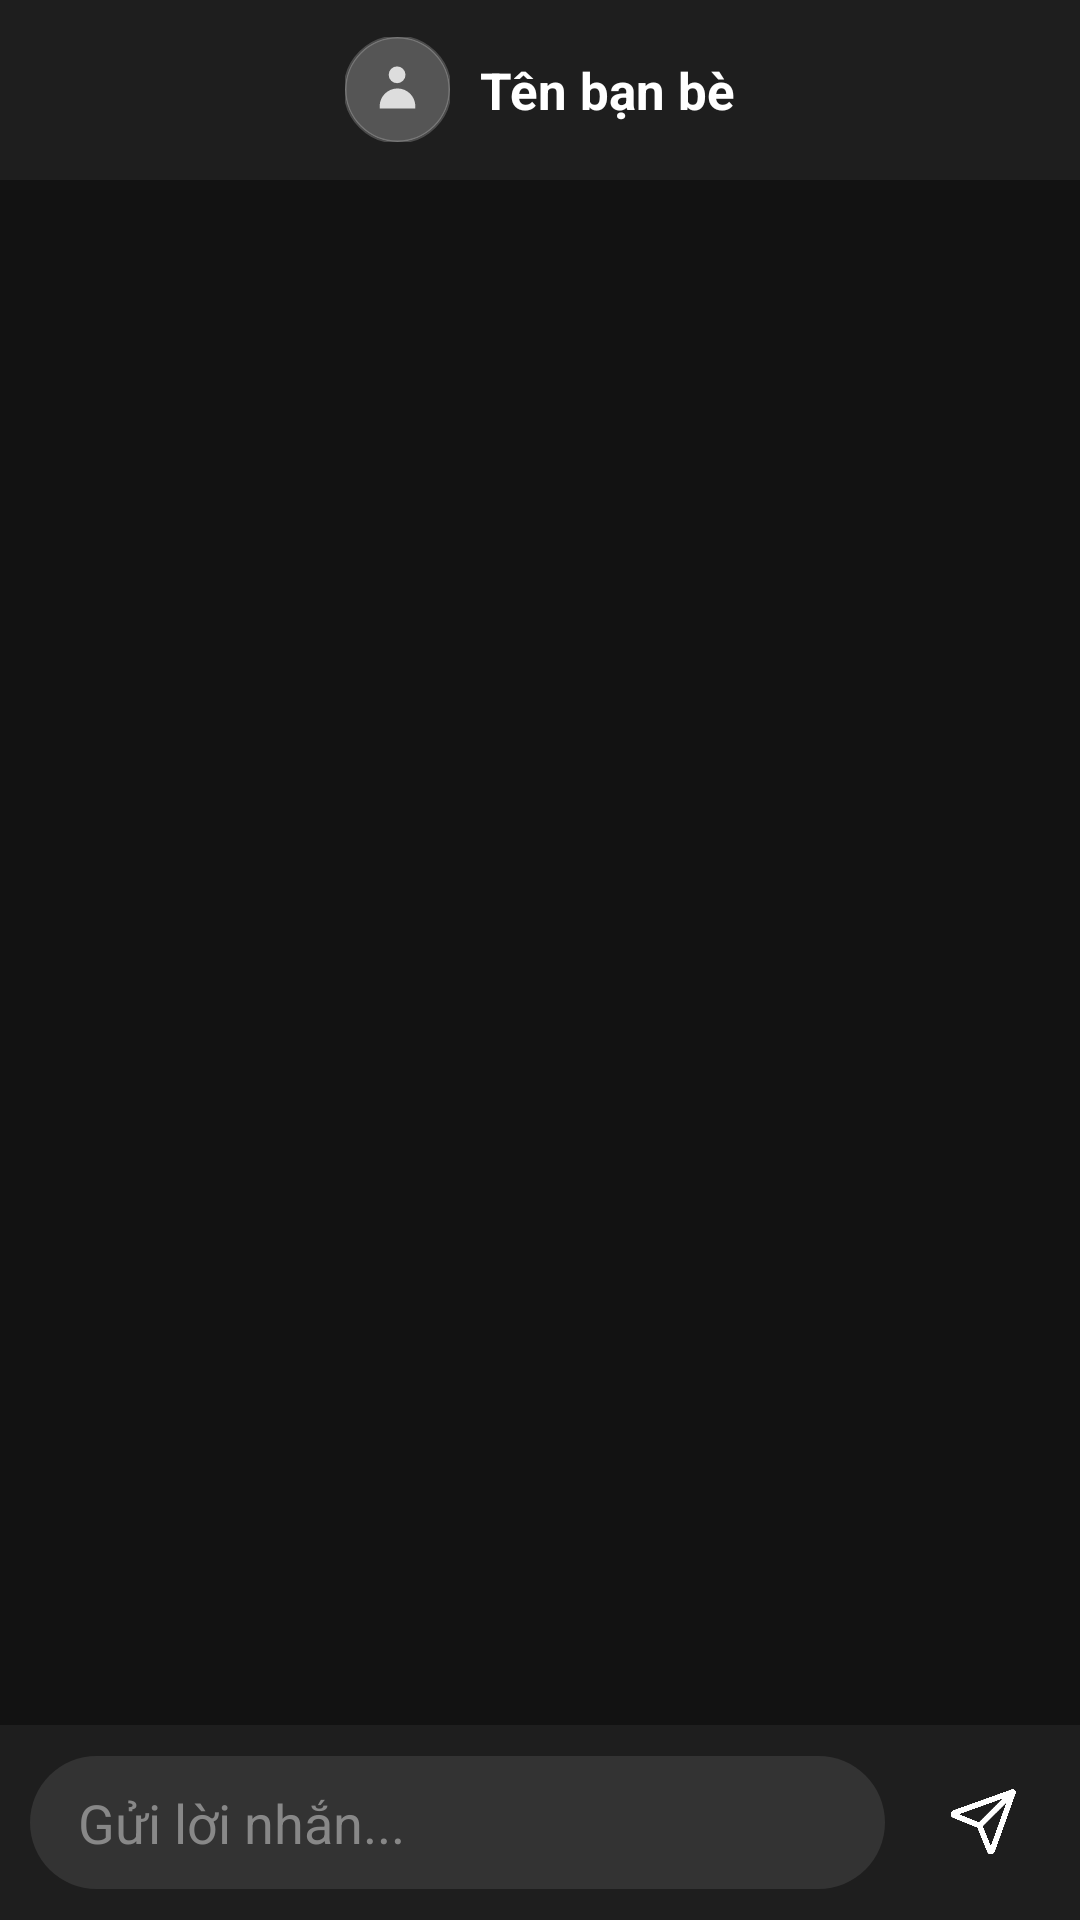

Point at icon controls on the screen. Image size 1080 × 1920, points as point (x, y).
send: point (983, 1821)
